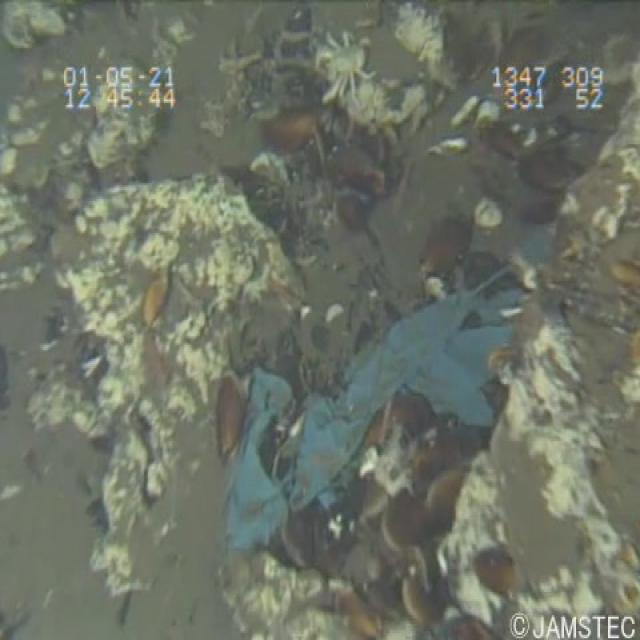plastic: (220, 268, 532, 558)
